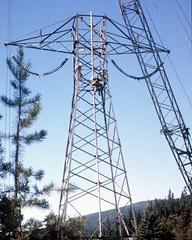power_tower: (11, 12, 173, 236)
